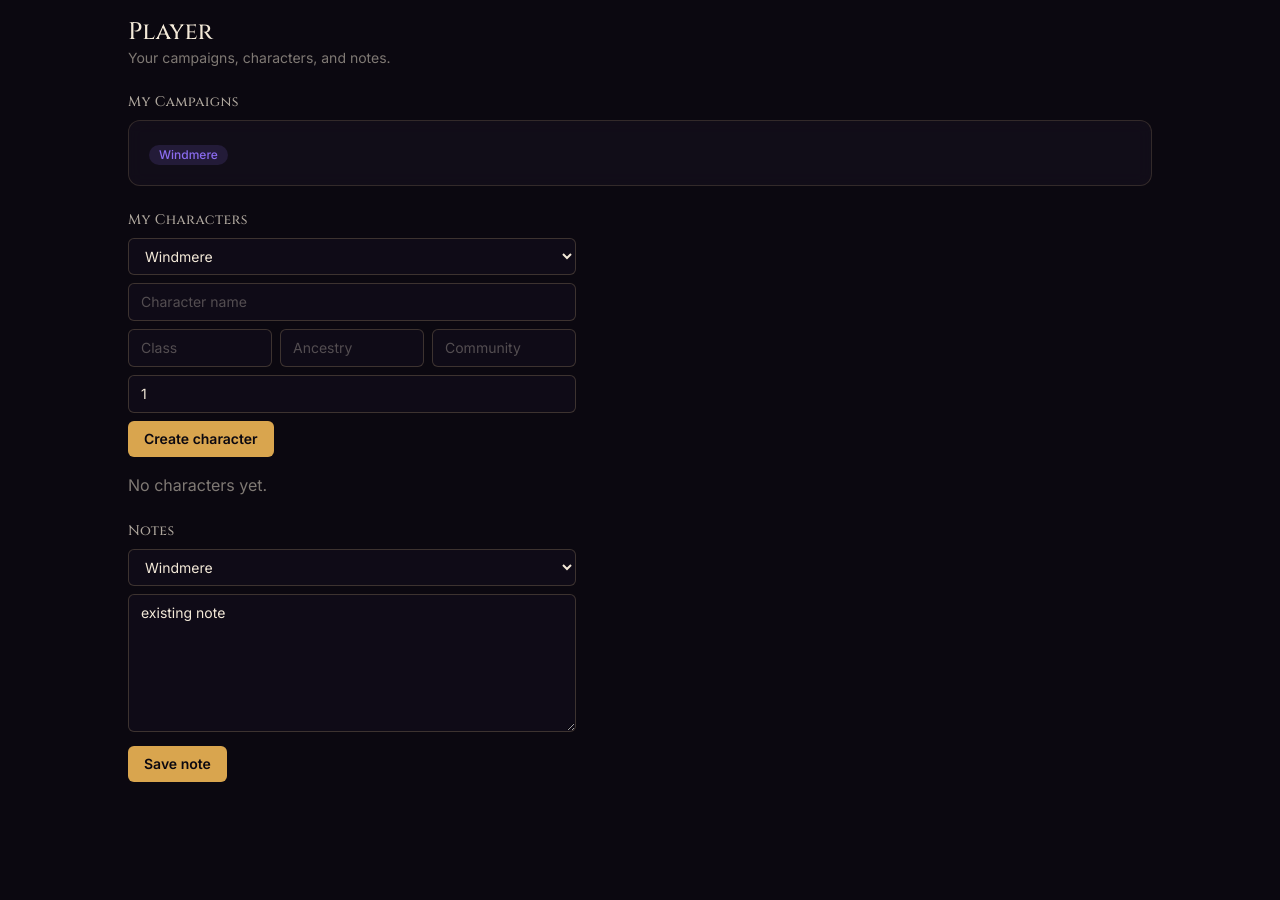
PlayerPage › loads and saves a note
Replace the text in the text box showing "existing note" with "updated note": (352, 663) top-left (128, 594), bottom-right (576, 732)
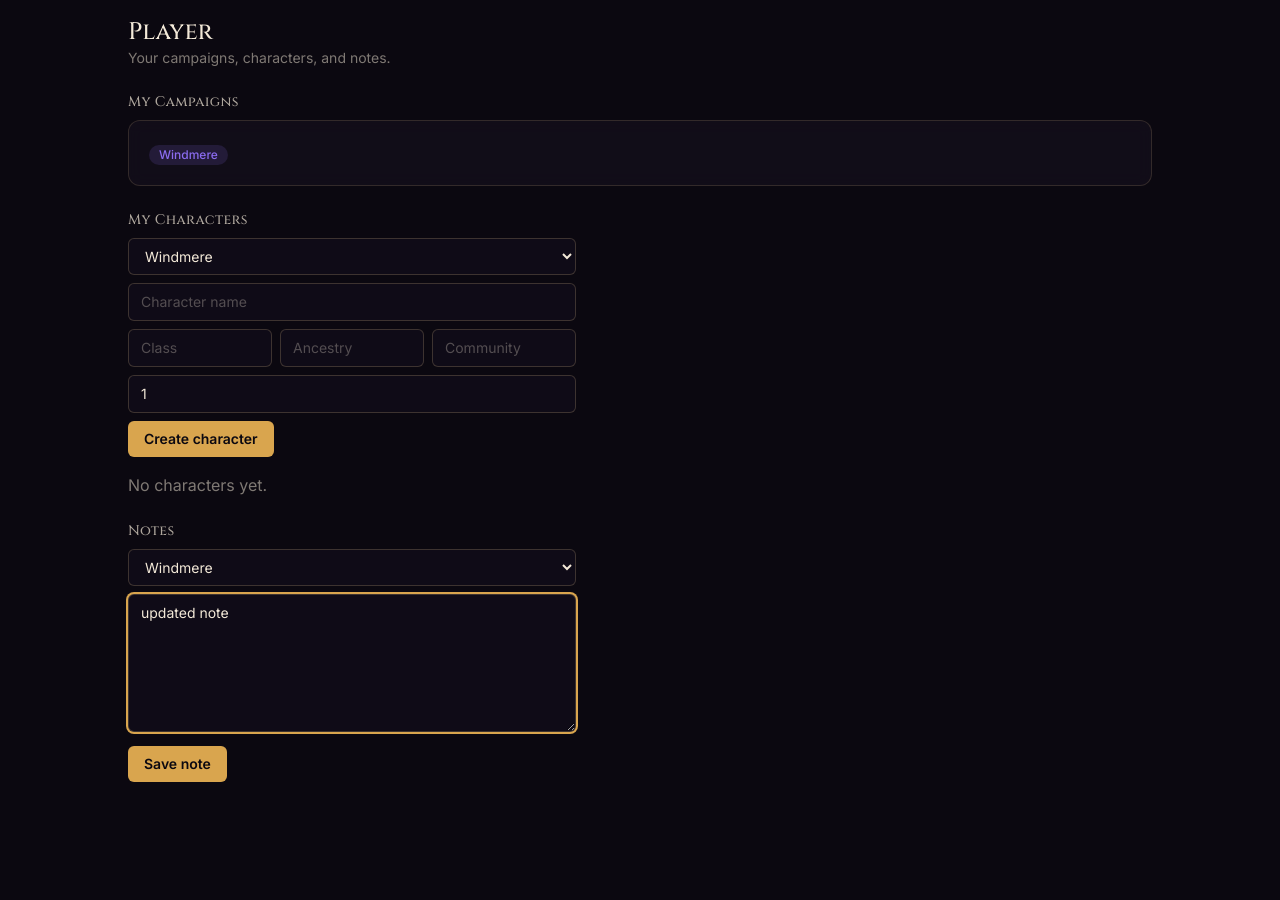
Click the button "Save note": (177, 764) top-left (128, 746), bottom-right (227, 782)
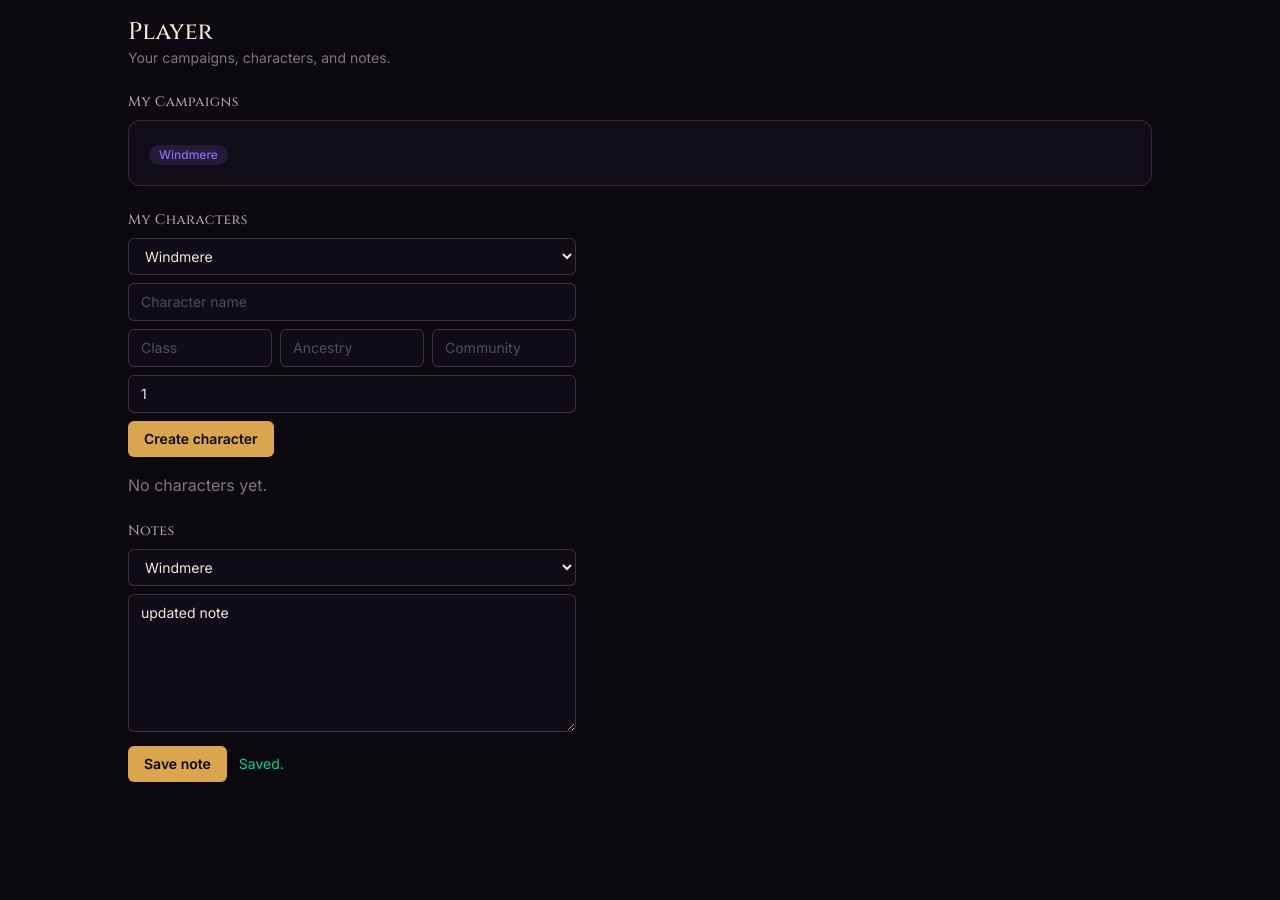
Expected: the text "Saved." is shown, top-left (239, 754), bottom-right (284, 774)
